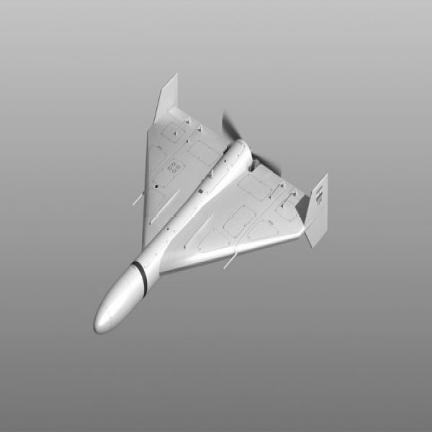Shahed: (94, 75, 329, 334)
